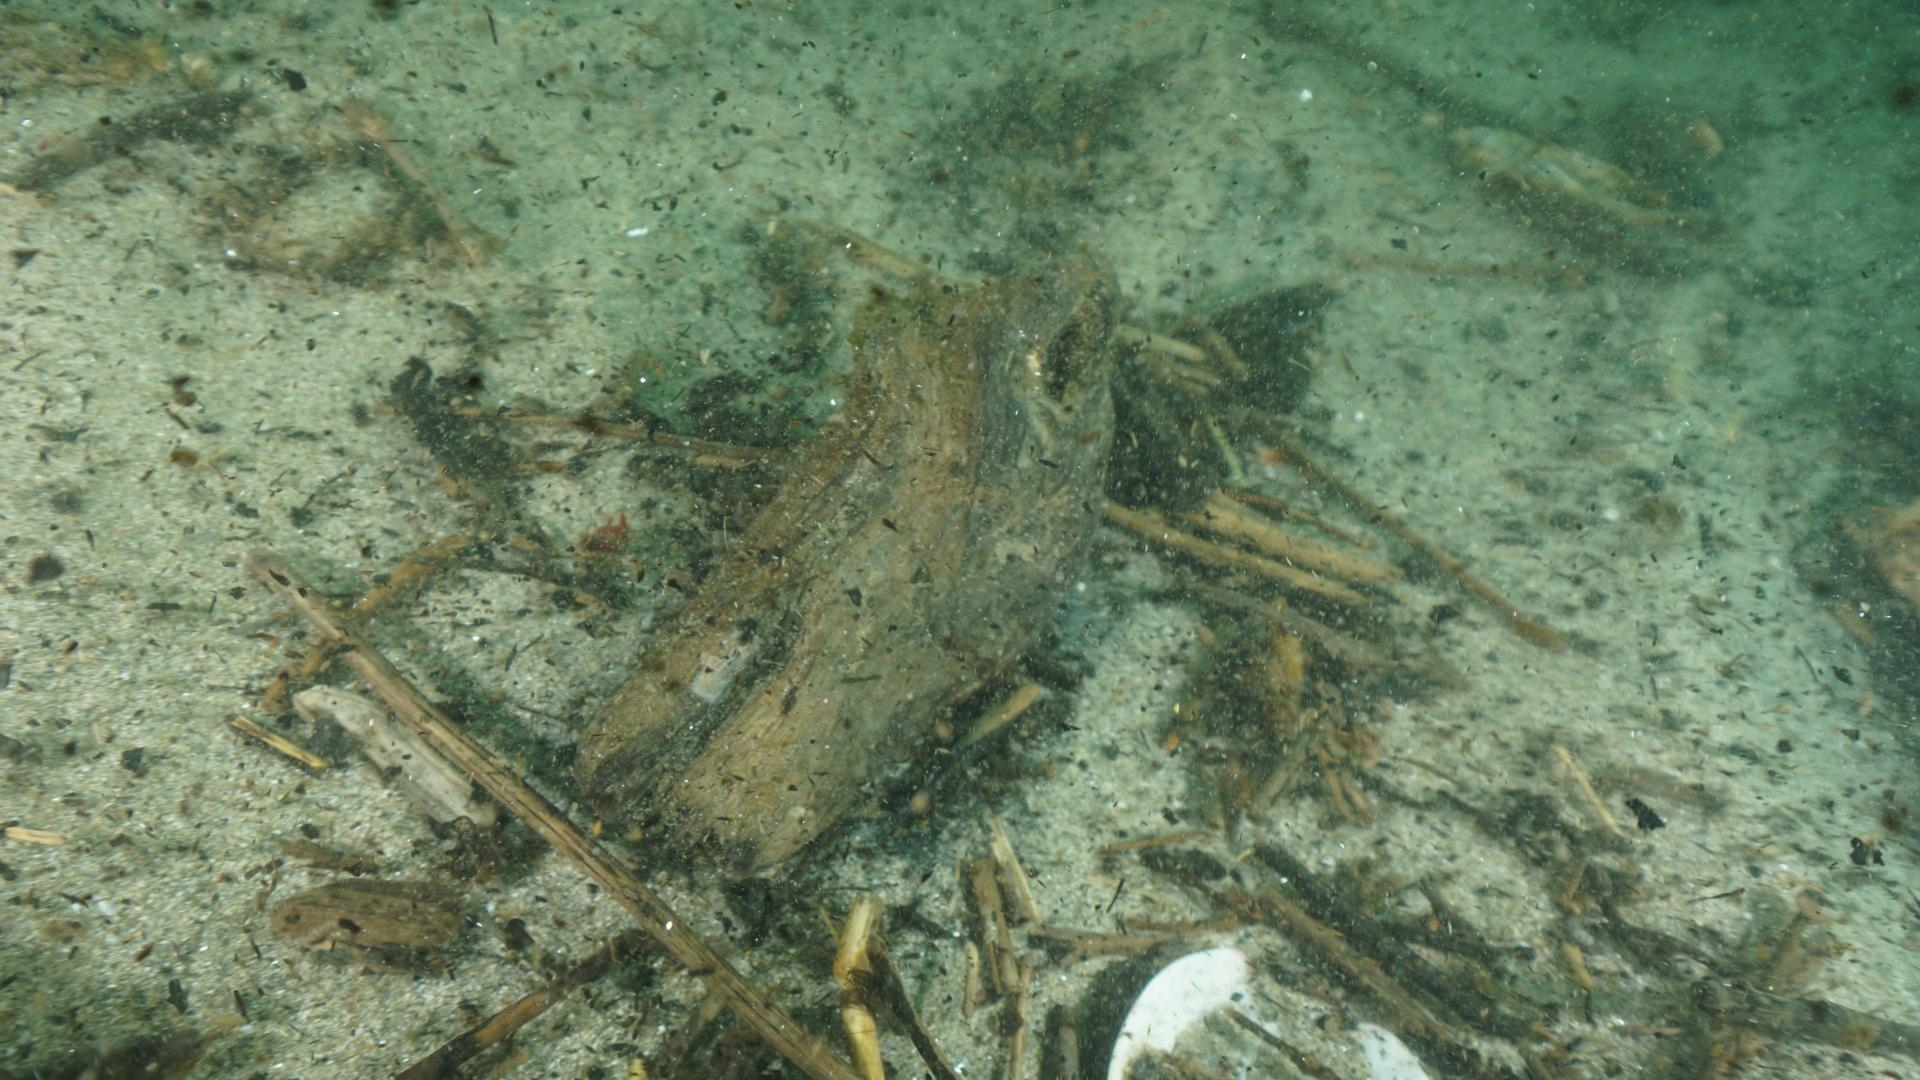wood: (562, 244, 1120, 870), (260, 576, 841, 1080)
